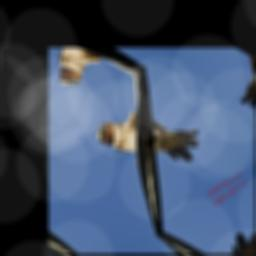Swallow: (89, 80, 211, 199)
